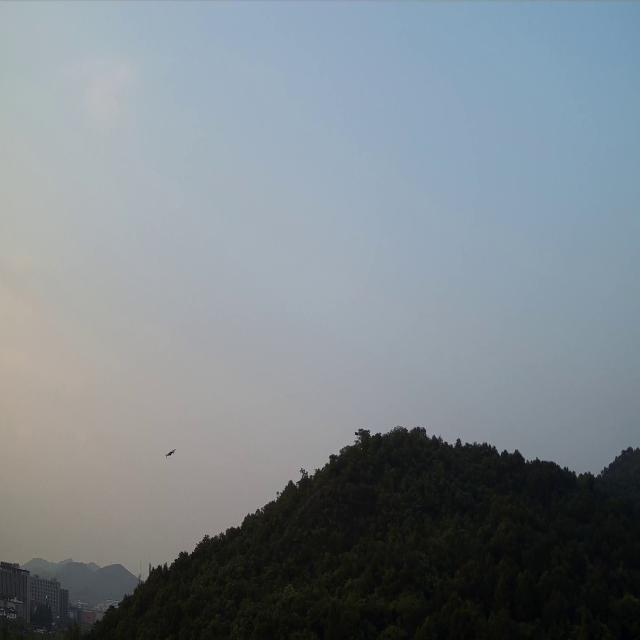UAV: (164, 447, 177, 459)
